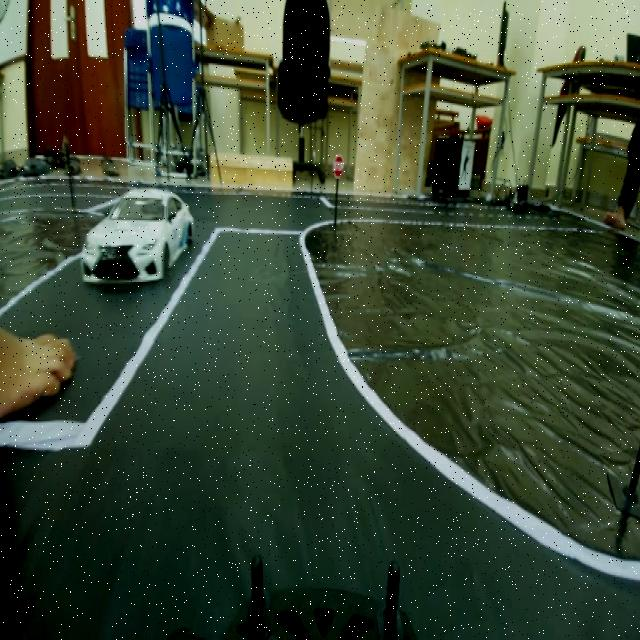car: (81, 178, 170, 296)
stop: (324, 143, 347, 180)
